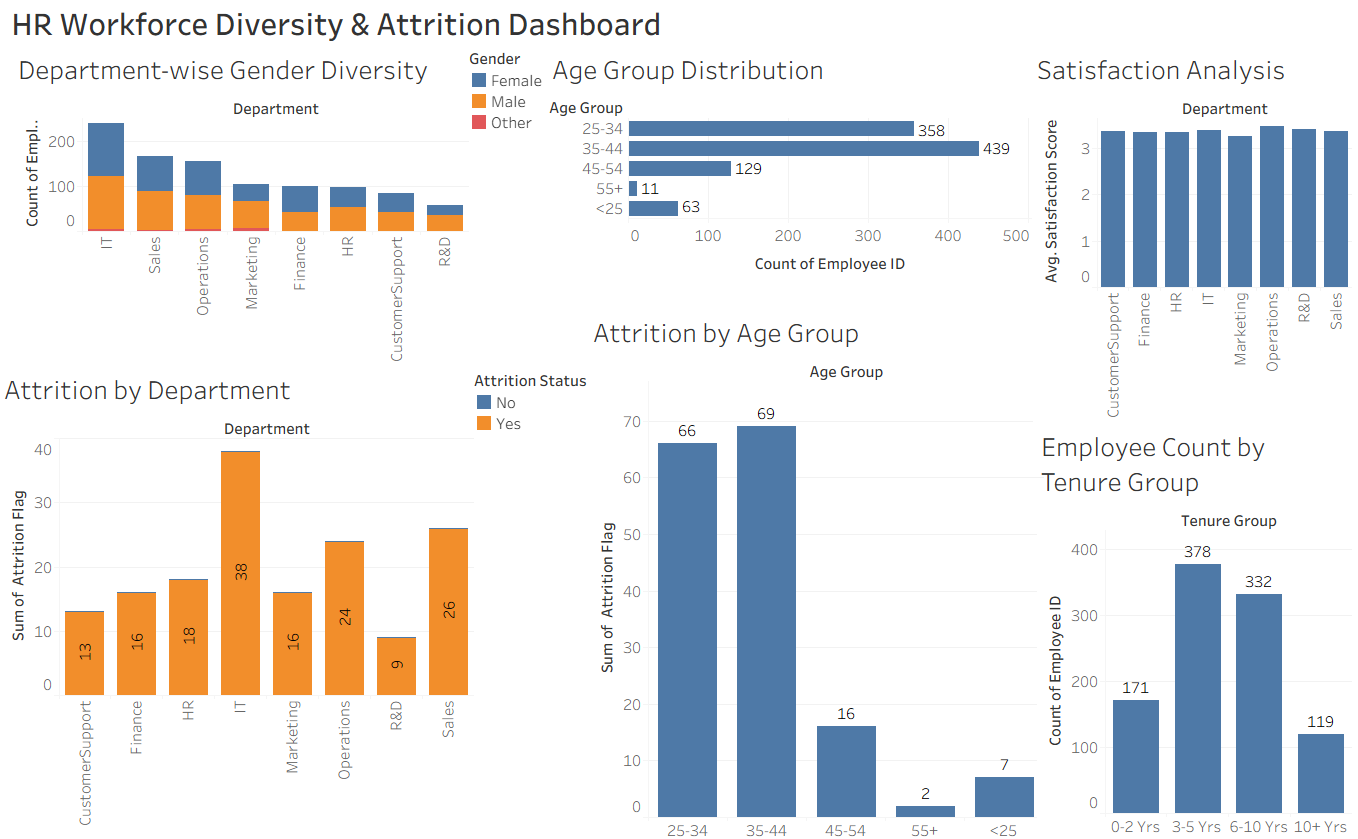

The page's visual inventory and layout, read from the dashboard file:
{"tool":"tableau","page":{"name":"HR Workforce Diversity & Attrition Dashboard","canvas":[1000,1000],"units":"permille","ordinal":0},"visuals":[{"type":"title","box":[5.9,9.4,988.3,57.5]},{"type":"worksheet","title":"Department-wise Gender Diversity","mark":"Bar","rows":["Employee ID"],"cols":["Department"],"box":[13.2,68.1,333.1,379.1]},{"type":"legend","title":"Department-wise Gender Diversity","param":"[federated.17u049r0324cbd1adpvj40jrasvy].[none:Gender:nk]","box":[346.3,68.1,102.5,99.8]},{"type":"worksheet","title":"Age Group Distribution","mark":"Automatic","rows":["Age Group"],"cols":["Employee ID"],"box":[404.1,68.1,354.3,292.2]},{"type":"worksheet","title":"Satisfaction Analysis","mark":"Bar","rows":["Satisfaction Score"],"cols":["Department"],"box":[759.1,68.1,233.5,444.8]},{"type":"worksheet","title":"Attrition by Age Group","mark":"Automatic","rows":["Calculation_0810347548557322"],"cols":["Age Group"],"box":[434.1,376.8,333.1,623.2]},{"type":"worksheet","title":"Attrition by Department","mark":"Bar","rows":["Calculation_0810347548557322"],"cols":["Department"],"box":[2.9,443.7,347,548.1]},{"type":"legend","title":"Attrition by Department","param":"[federated.17u049r0324cbd1adpvj40jrasvy].[none:Attrition Status:nk]","box":[349.9,446,92.2,116.2]},{"type":"worksheet","title":"Employee Count by Tenure Group","mark":"Automatic","rows":["Employee ID"],"cols":["Tenure Group"],"box":[762.1,510.6,230.6,484.7]}]}

Visuals, with their boxes on the dashboard's canvas, which has no fixed pixel size, in thousandths of its width and height (x1, y1, x2, y2). These are canvas units, not pixel positions in the 1358x839 screenshot, which may show the page scaled, cropped or inside an application window:
title: [left=6, top=9, right=994, bottom=67]
"Department-wise Gender Diversity" worksheet (Bar marks): [left=13, top=68, right=346, bottom=447]
"Department-wise Gender Diversity" legend: [left=346, top=68, right=449, bottom=168]
"Age Group Distribution" worksheet: [left=404, top=68, right=758, bottom=360]
"Satisfaction Analysis" worksheet (Bar marks): [left=759, top=68, right=993, bottom=513]
"Attrition by Age Group" worksheet: [left=434, top=377, right=767, bottom=1000]
"Attrition by Department" worksheet (Bar marks): [left=3, top=444, right=350, bottom=992]
"Attrition by Department" legend: [left=350, top=446, right=442, bottom=562]
"Employee Count by Tenure Group" worksheet: [left=762, top=511, right=993, bottom=995]
